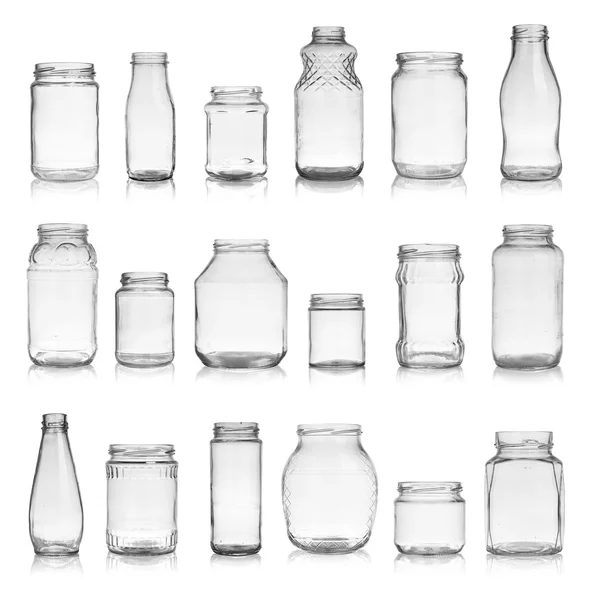glass_bottle: (278, 410, 386, 564), (189, 229, 296, 379), (487, 15, 574, 191), (483, 215, 573, 379), (286, 19, 371, 192), (16, 217, 107, 373), (384, 238, 477, 379), (381, 49, 476, 187), (479, 424, 572, 560), (21, 407, 94, 564), (102, 431, 187, 562), (25, 54, 104, 191), (201, 413, 272, 564), (197, 77, 274, 195), (119, 48, 180, 191), (110, 262, 180, 376), (301, 282, 376, 379), (390, 473, 470, 562)
